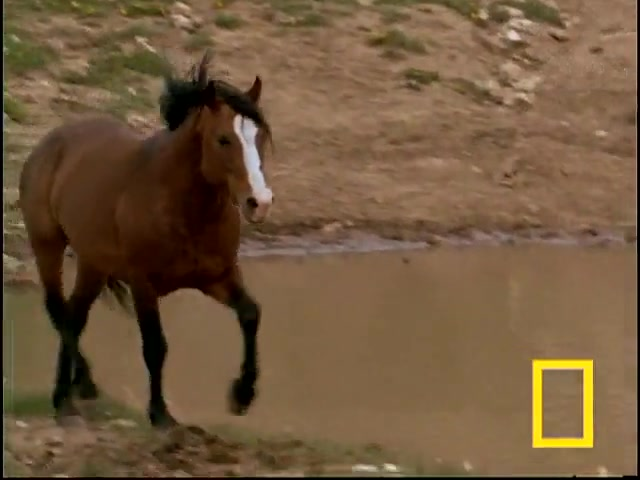horse: (17, 61, 279, 436)
